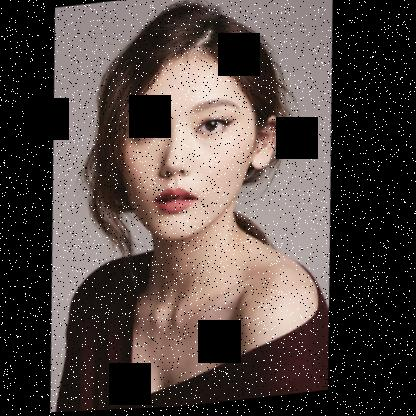Female: (110, 39, 293, 245)
